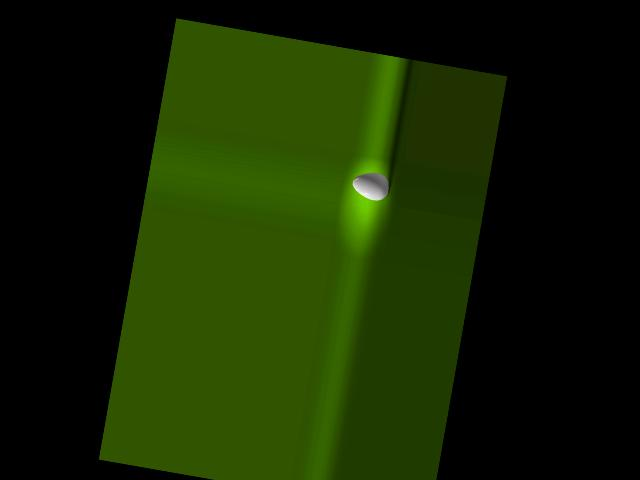egg: (349, 169, 391, 202)
